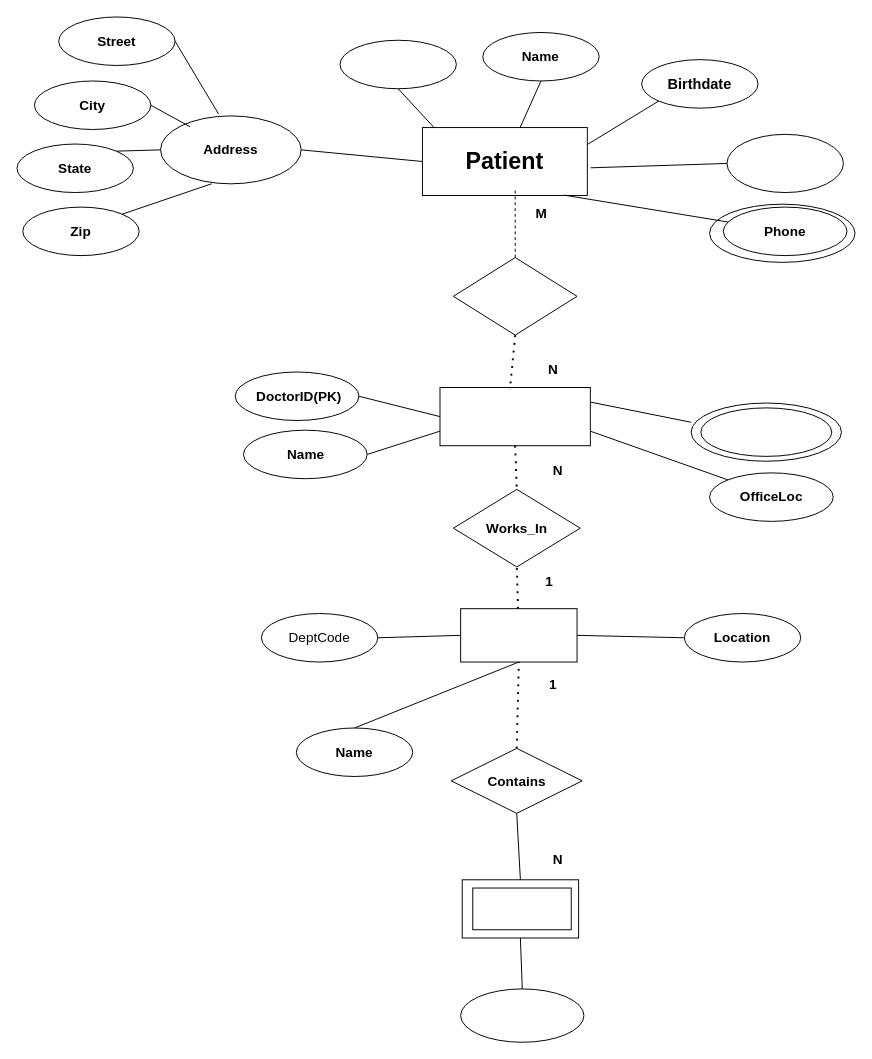
This 872x1059 diagram has some shape labels left out. Here are the shapes that lost their labels. From the top down, the box of each, then its label:
(339, 39, 456, 89): PatientID
(726, 133, 843, 193): Insurance
(452, 257, 577, 335): Scedules
(439, 387, 590, 446): DOCTOR
(700, 407, 832, 456): Specialization(M)
(460, 608, 577, 662): DEPARTMENT
(472, 887, 571, 930): ROOM
(460, 988, 584, 1042): RoomNumber(Partial Key)
